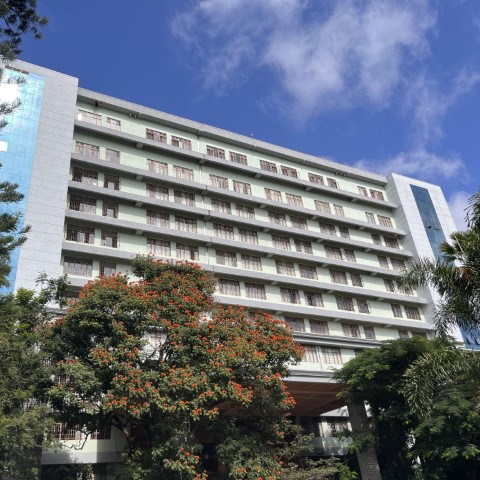Central Block: (1, 53, 480, 393)
